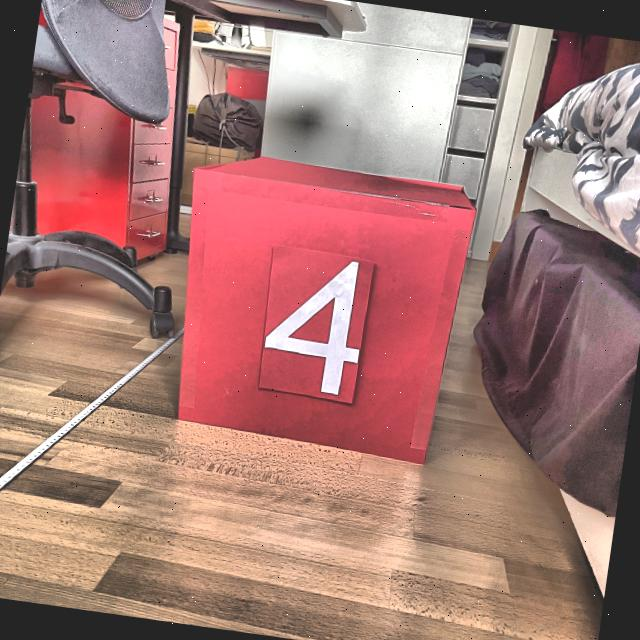four: (252, 247, 375, 404)
red box: (159, 143, 476, 470)
